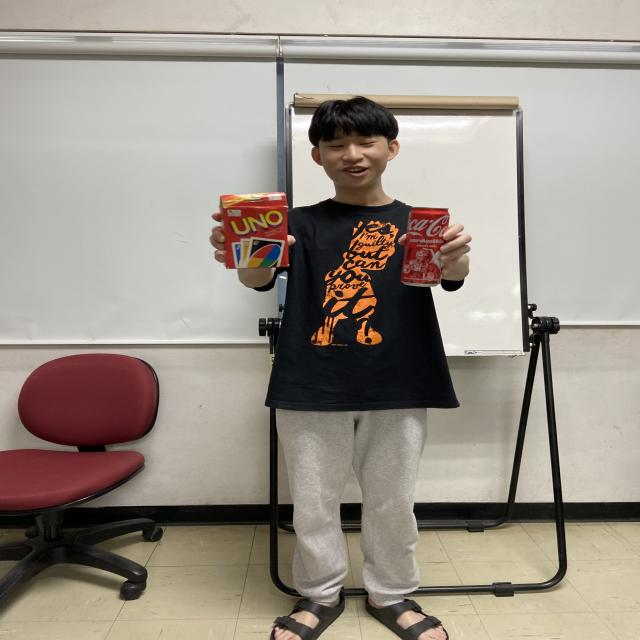can: (400, 205, 450, 288)
